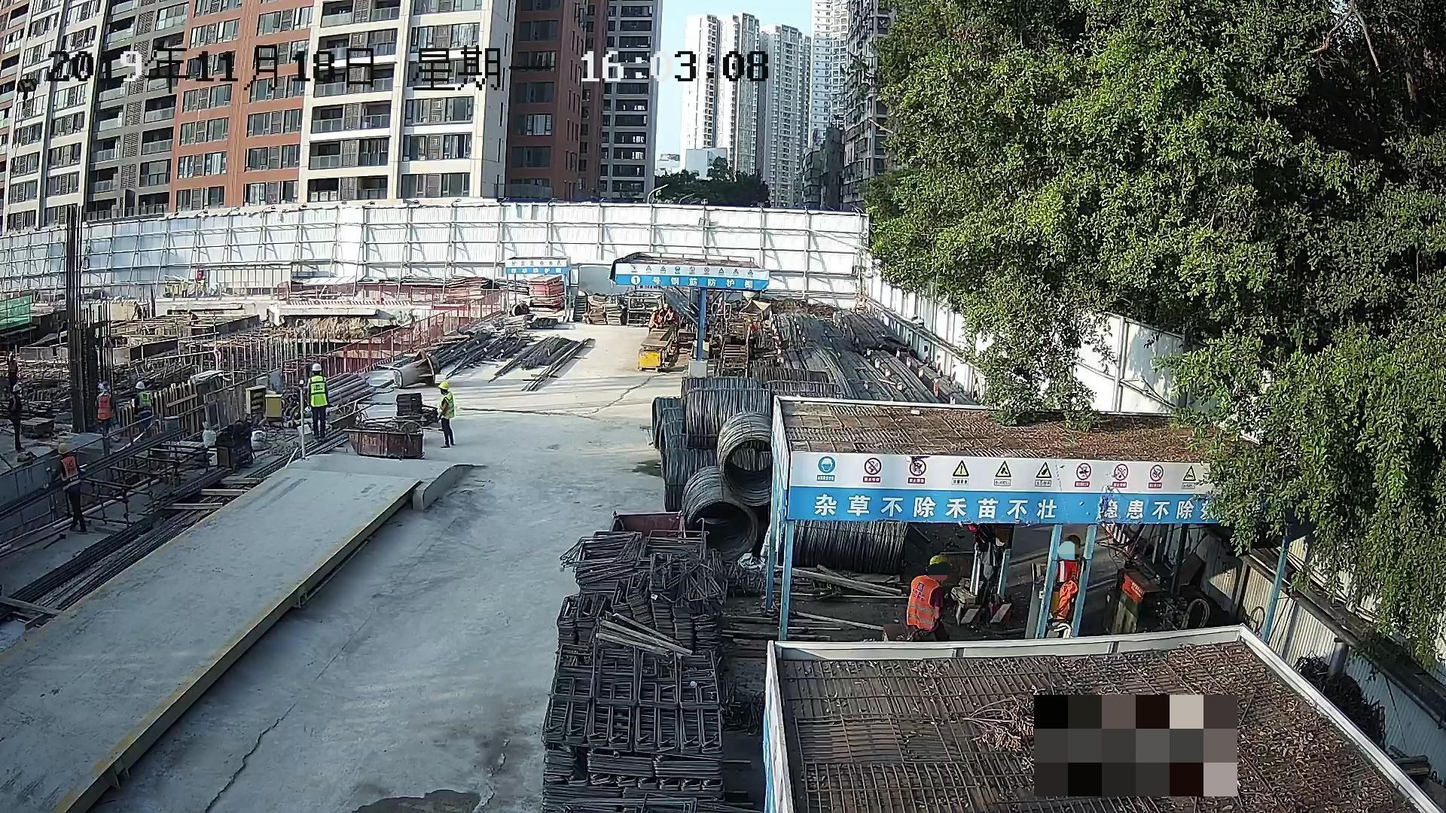hat: (1057, 531, 1083, 559), (925, 555, 952, 579), (437, 380, 450, 395), (57, 442, 70, 457), (310, 362, 322, 375), (135, 381, 146, 392)
person: (903, 553, 953, 635), (1045, 528, 1088, 617), (55, 441, 92, 537), (305, 358, 333, 439), (435, 379, 459, 452), (131, 379, 159, 440)
